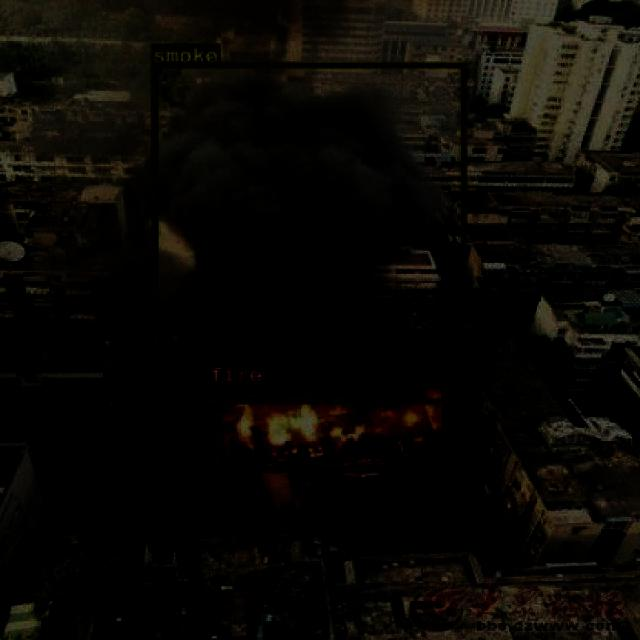fire: (206, 381, 448, 472)
smoke: (150, 61, 464, 404)
